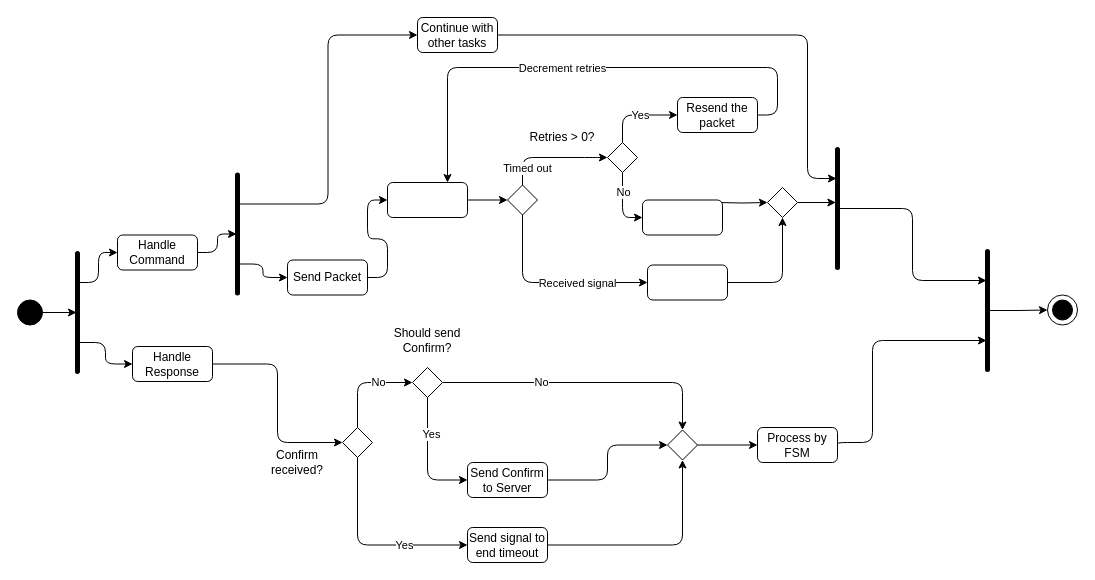
Some shapes in this 1095 by 580 pixel diagram are drawn without their labels. Here are the shapes that lost their labels. From the top down, the centre of each, then its label:
pixel 427 200: Start Confirm Timeout
pixel 682 217: Send signal to FSM
pixel 687 282: End Timeout
